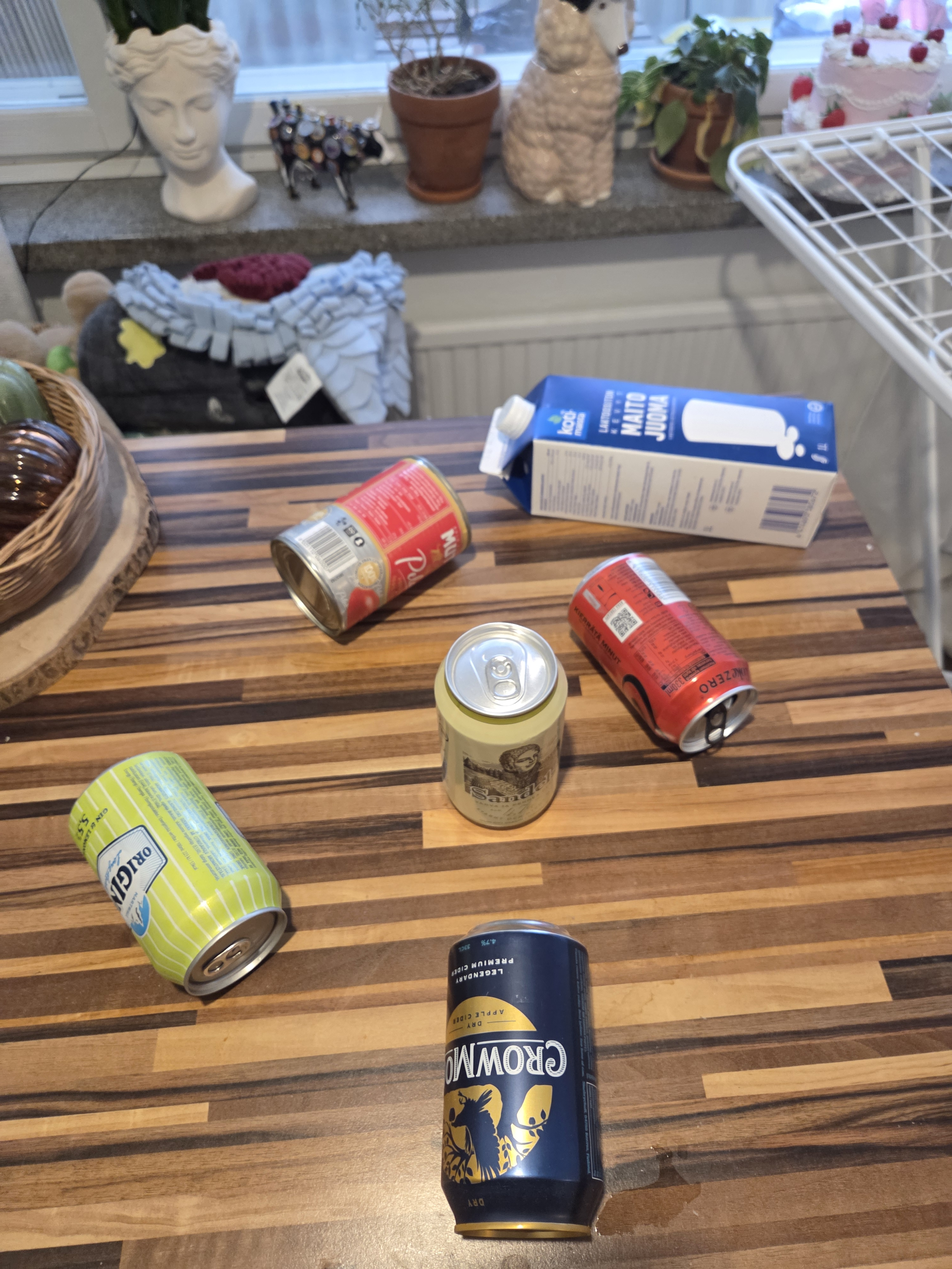Dryckeskartong: (479, 374, 838, 549)
Konservburk: (269, 455, 473, 639)
Pantburk: (66, 749, 288, 998), (440, 919, 606, 1240), (567, 553, 759, 754), (432, 621, 569, 831)
